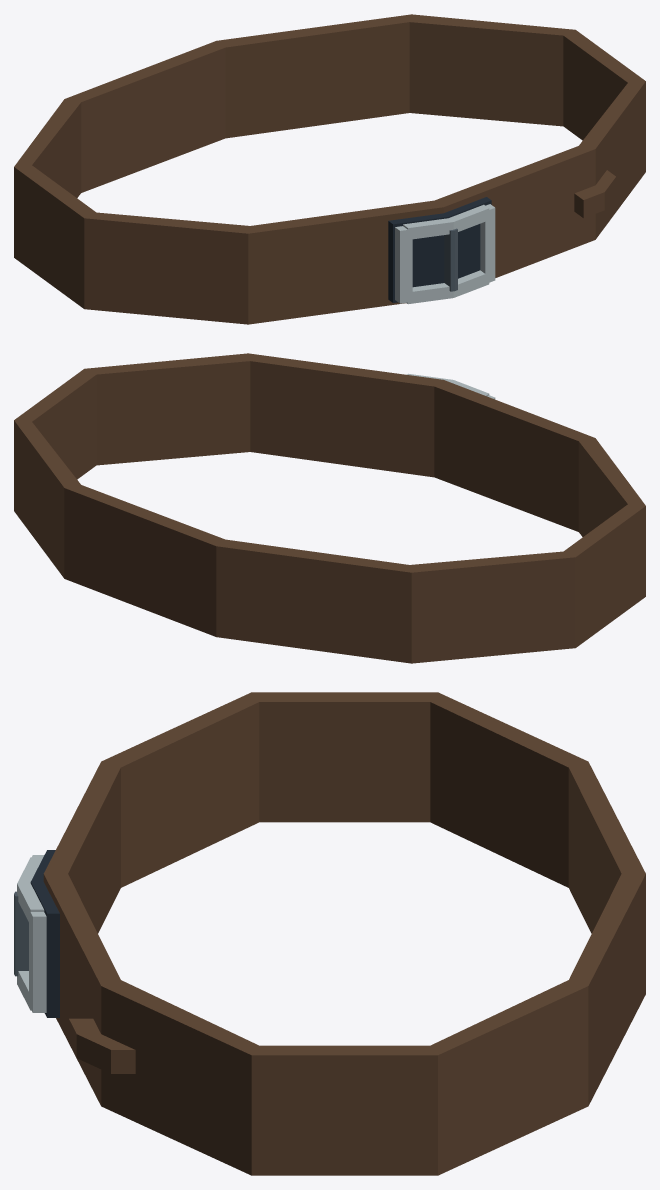
Rendered from leather_waist-male-thickHide.glb.
3 renders of one model, top to bottom at view 1: azimuth 30°, elevation 25°; view 2: azimuth 150°, elevation 25°; view 3: azimuth 270°, elevation 25°, orthographic. The views are drawn at different scales.
Parts seen in each view (by area): view 1: leather waist band, Buckle recessed backplate, Buckle cross rail 4.506, Buckle side rail -0.145, Buckle cross rail 4.294, Heavy hide binding leather waist band, Buckle side rail 0.145, Buckle pin; view 2: leather waist band; view 3: leather waist band, Heavy hide binding leather waist band, Buckle recessed backplate, Buckle side rail 0.145, Buckle pin, Buckle cross rail 4.506.
Boxes of the visible parts, x1=… form: leather waist band: x1=14, y1=14, x2=645, y2=324; Buckle recessed backplate: x1=388, y1=197, x2=491, y2=302; Buckle cross rail 4.506: x1=403, y1=204, x2=489, y2=239; Buckle side rail -0.145: x1=395, y1=226, x2=412, y2=303; Buckle cross rail 4.294: x1=406, y1=270, x2=489, y2=304; Heavy hide binding leather waist band: x1=574, y1=170, x2=616, y2=218; Buckle side rail 0.145: x1=480, y1=204, x2=495, y2=283; Buckle pin: x1=444, y1=228, x2=457, y2=291; leather waist band: x1=14, y1=353, x2=645, y2=663; leather waist band: x1=43, y1=692, x2=645, y2=1175; Heavy hide binding leather waist band: x1=68, y1=1018, x2=135, y2=1073; Buckle recessed backplate: x1=30, y1=850, x2=59, y2=1017; Buckle side rail 0.145: x1=29, y1=912, x2=46, y2=1012; Buckle pin: x1=14, y1=891, x2=28, y2=976; Buckle cross rail 4.506: x1=17, y1=857, x2=44, y2=924.
Size of the model in its own units: 1.94 by 0.3 by 1.43.
